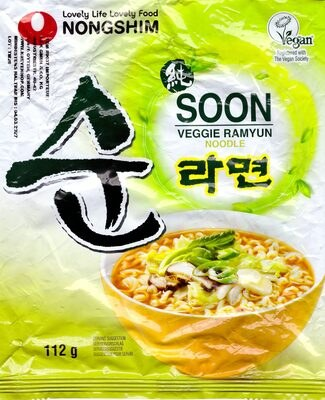SOON VEGGIE RAMYUN NOODLE: (16, 20, 309, 380)
